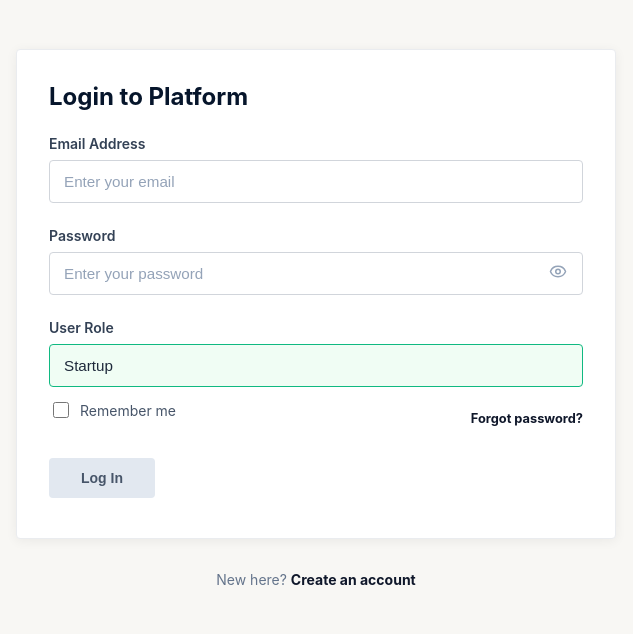
Test case: LoginPage › validation errors appear
The width and height of the screenshot is (633, 634).
Click the button "Log In". click: (102, 478)
box: [49, 458, 155, 498]
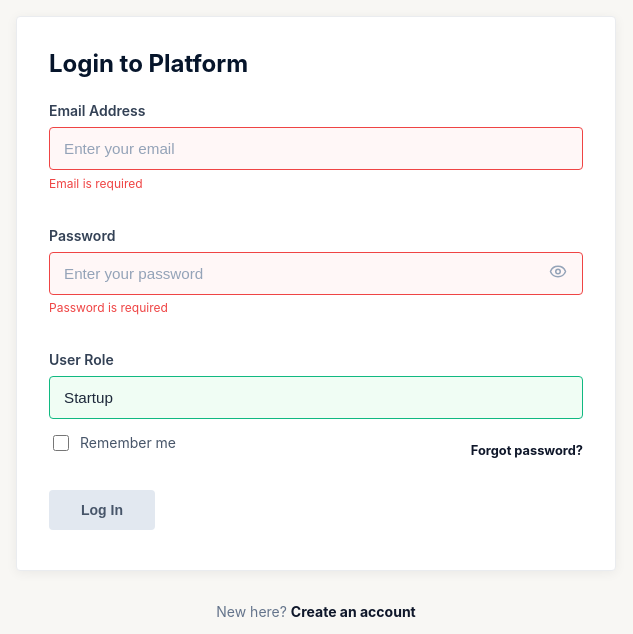
Now the text "Email is required" is shown, box [49, 176, 143, 190]
Now the text "Password is required" is shown, box [49, 300, 168, 315]
